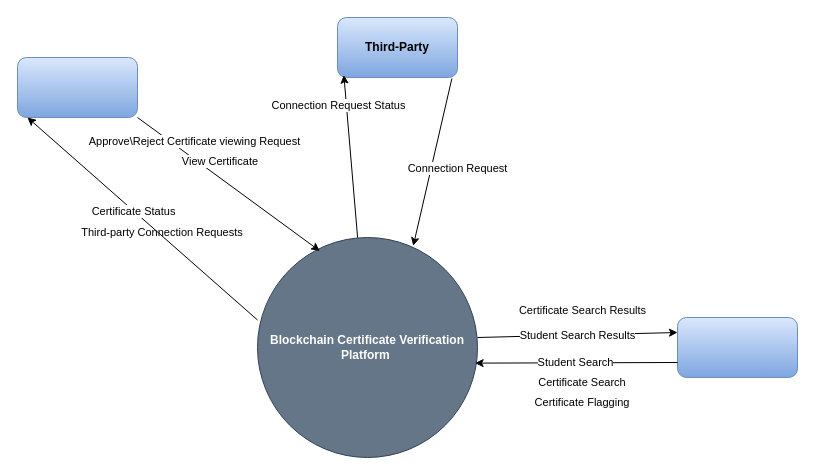
This 815x475 diagram has some shape labels left out. Here are the shapes that lost their labels. From the top down, the box of each, then its label:
(16, 56, 138, 118): Student
(676, 316, 798, 378): Administrator/ Graduations
